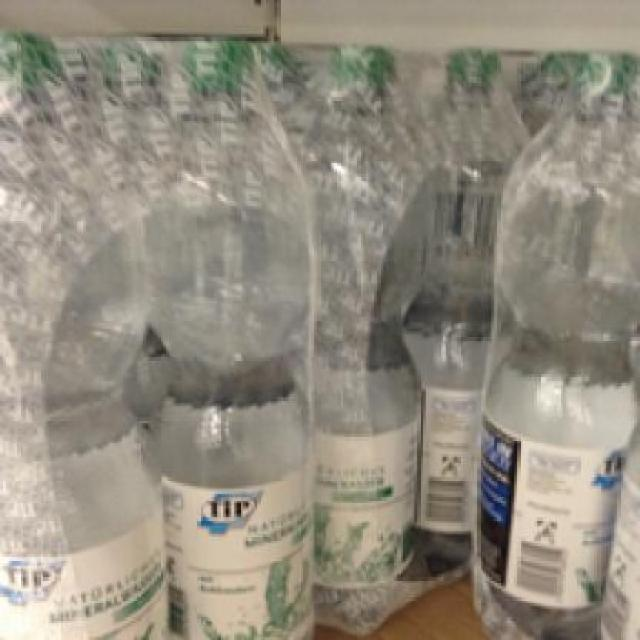Water: (140, 32, 320, 638), (0, 32, 169, 638), (477, 51, 637, 632), (290, 42, 426, 628)
